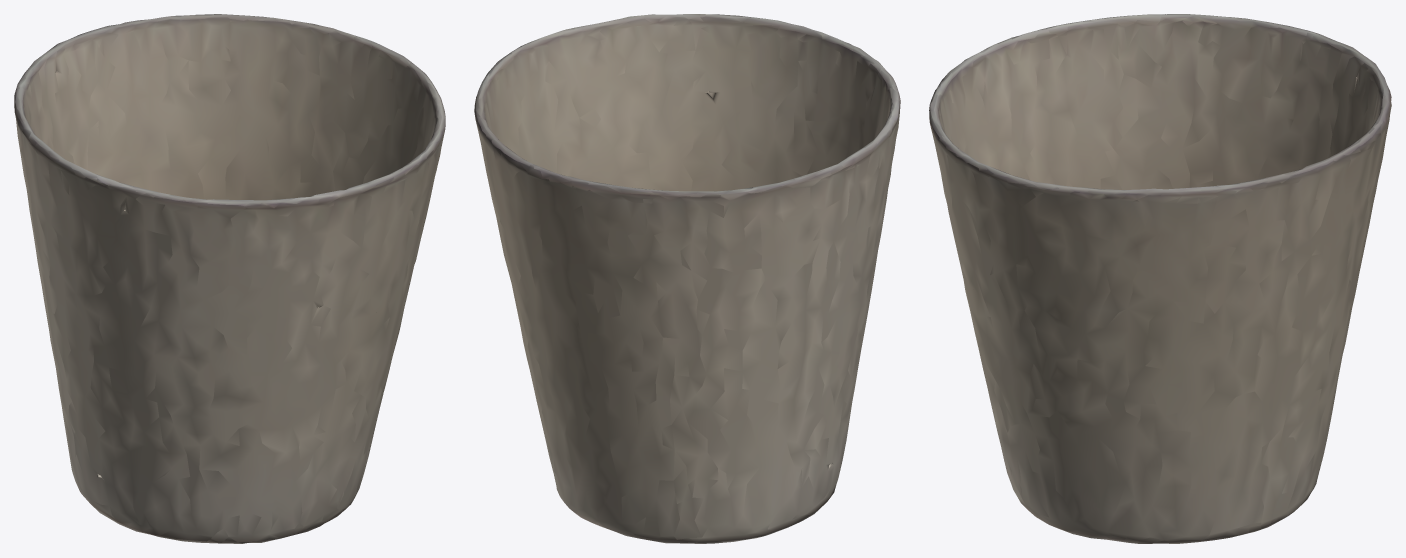
Rendered from 0016_mask_017_glass_of_dark_liquid.glb.
3 renders of one model, left to right at view 1: azimuth 30°, elevation 25°; view 2: azimuth 150°, elevation 25°; view 3: azimuth 270°, elevation 25°, orthographic. The views are drawn at different scales.
Visible parts, largest first — view 1: mask_017_object; view 2: mask_017_object; view 3: mask_017_object.
Boxes of the visible parts, x1=… form: mask_017_object: x1=14, y1=14, x2=445, y2=543; mask_017_object: x1=474, y1=14, x2=900, y2=543; mask_017_object: x1=929, y1=14, x2=1391, y2=543.
Bounding box in the file's own units: 0.1593 × 0.1611 × 0.1695.
